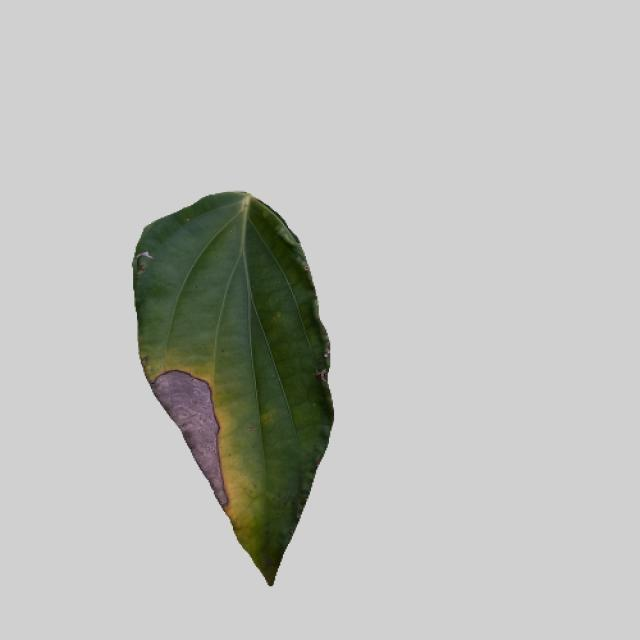leaf-blight: (118, 191, 338, 582)
